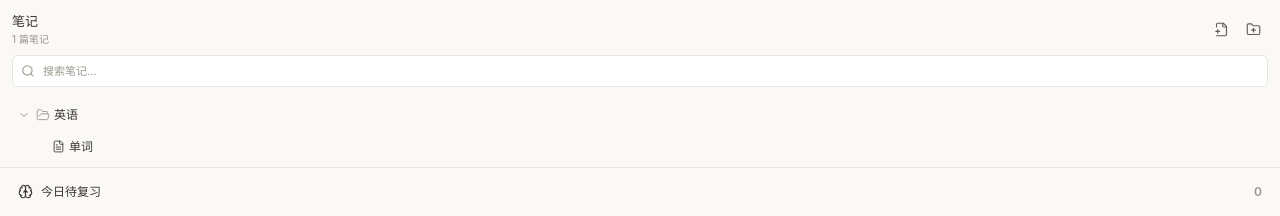
it: FileTree 右键菜单 › 右键笔记行显示重命名与删除
The width and height of the screenshot is (1280, 216).
Right-click the button "单词" at {"x": 58, "y": 146}, box [8,130,1272,162]
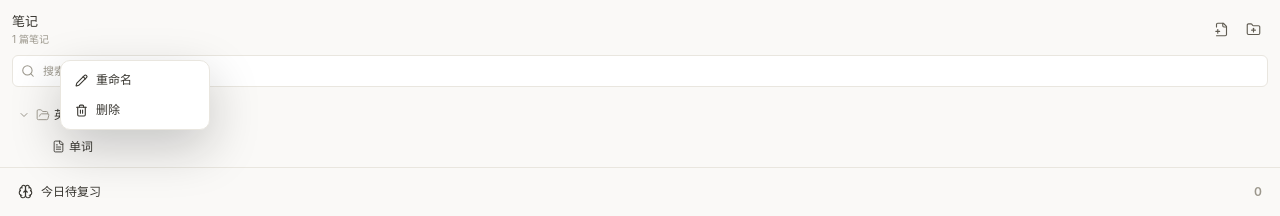
Expected: the text "重命名" is shown, [65,65,205,95]
